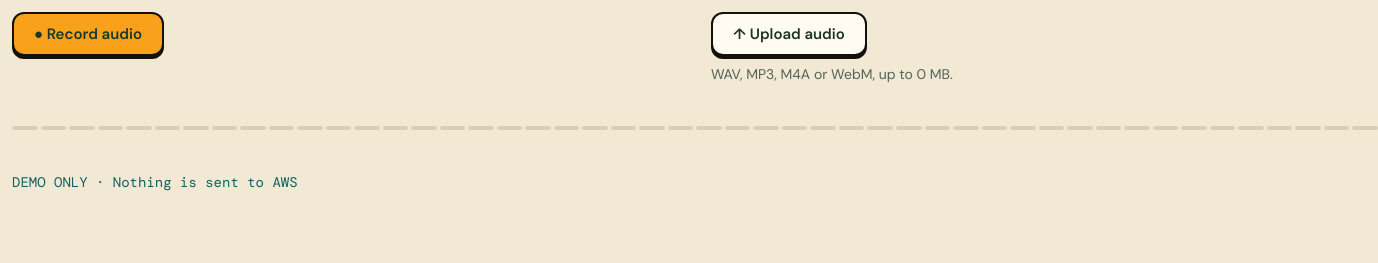
Scenario: RecorderUploader edge cases › can cancel the countdown without saving microphone audio
Click the button "● Record audio": (88, 34) x1=12 y1=12 x2=164 y2=56
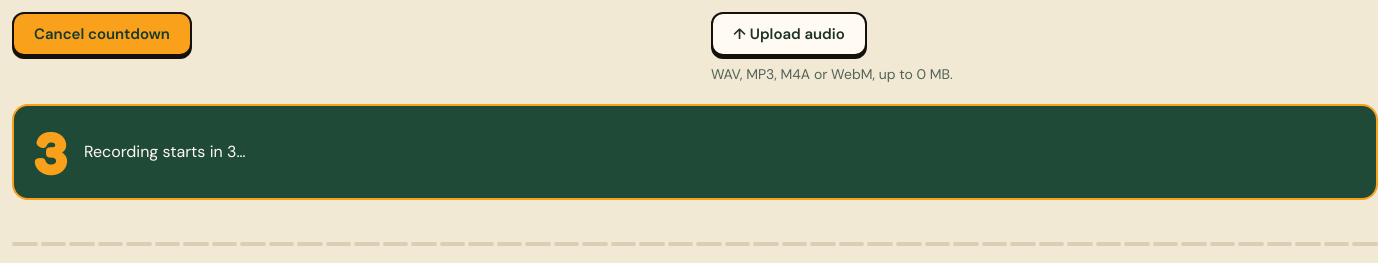
Expected: the text "Recording starts in 3…" is shown, x1=84 y1=140 x2=246 y2=164
Click the button "Cancel countdown": (102, 34) x1=12 y1=12 x2=192 y2=56
Wait 3000 ms
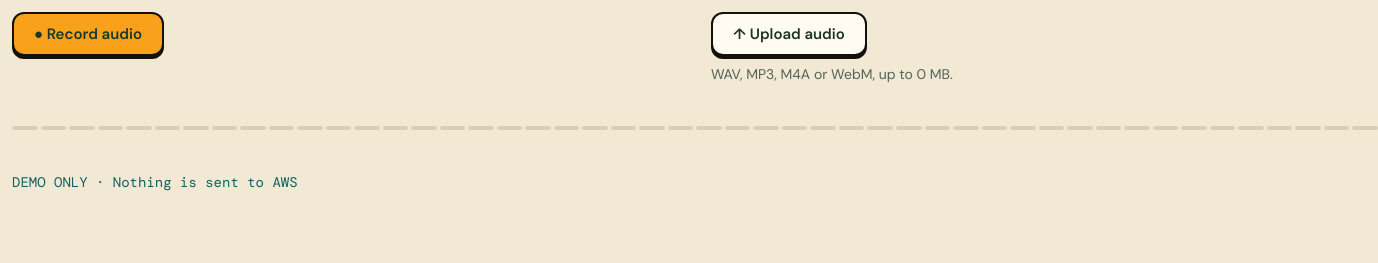
Expected: the button "● Record audio" is shown, x1=12 y1=12 x2=164 y2=56
